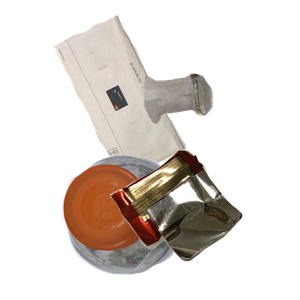glass: (141, 71, 300, 187)
paper: (51, 13, 230, 186)
plastic: (60, 152, 237, 300)
trash: (107, 148, 300, 300)
